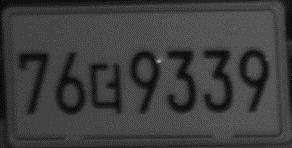3: (164, 48, 197, 114), (201, 48, 235, 112)
6: (51, 47, 86, 115)
7: (16, 50, 52, 116)
9: (238, 47, 272, 114), (129, 50, 161, 115)
더: (89, 61, 124, 115)
